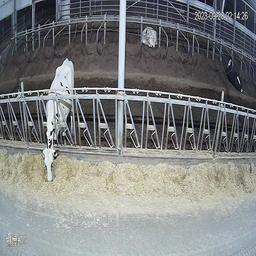cow: (41, 57, 75, 183), (226, 55, 244, 91), (141, 26, 158, 46)
